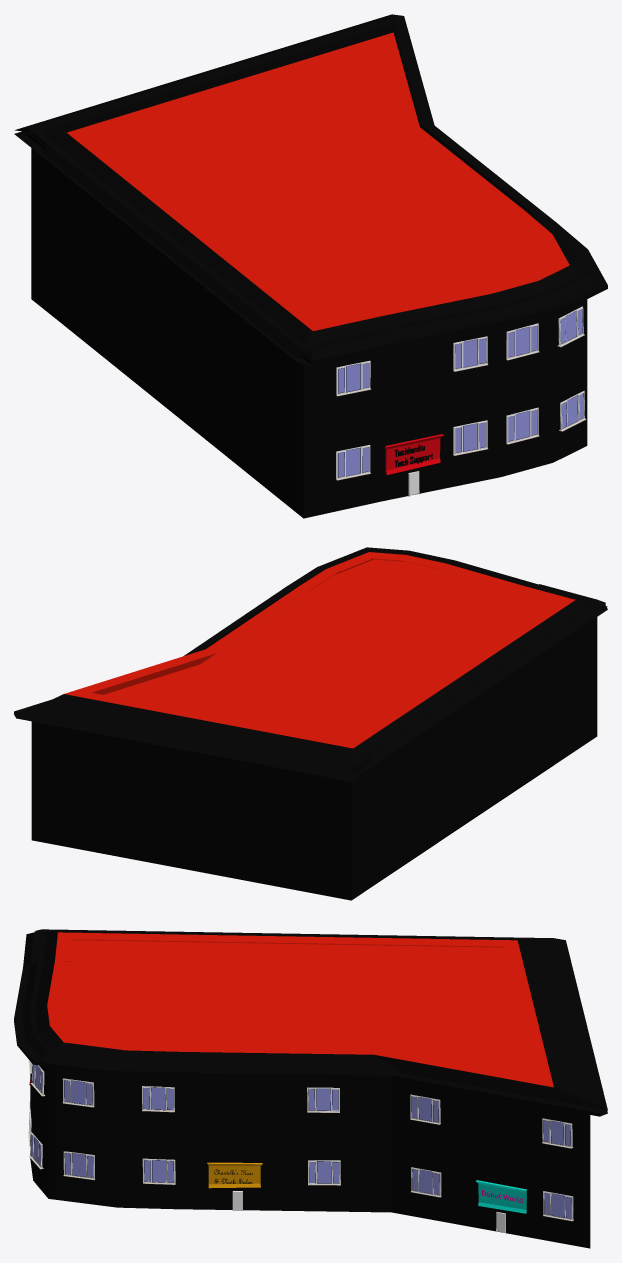
File: HarcourtRoadShops2.fbx
3 renders of one model, top to bottom at view 1: azimuth 30°, elevation 25°; view 2: azimuth 150°, elevation 25°; view 3: azimuth 270°, elevation 25°, orthographic. The views are drawn at different scales.
Visible parts, largest first — view 1: HarcourtRoadShops2, Window.004, Window.003, Window.002, Window.001, TechlandiaTechSupport; view 2: HarcourtRoadShops2; view 3: HarcourtRoadShops2, Window.005, Window.006, Window, Window.008, Window.007, Chantelle'sHair&NailsSalon, DonutWorld, Window.001.
Boxes of the visible parts, left/top/right/bottom form: HarcourtRoadShops2: left=14, top=14, right=607, bottom=518; Window.004: left=336, top=360, right=371, bottom=480; Window.003: left=453, top=336, right=488, bottom=455; Window.002: left=506, top=323, right=539, bottom=444; Window.001: left=558, top=306, right=586, bottom=431; TechlandiaTechSupport: left=385, top=434, right=443, bottom=474; HarcourtRoadShops2: left=14, top=547, right=607, bottom=900; HarcourtRoadShops2: left=14, top=929, right=607, bottom=1248; Window.005: left=142, top=1086, right=175, bottom=1184; Window.006: left=307, top=1087, right=340, bottom=1185; Window: left=62, top=1078, right=94, bottom=1180; Window.008: left=542, top=1118, right=573, bottom=1221; Window.007: left=410, top=1094, right=441, bottom=1197; Chantelle'sHair&NailsSalon: left=207, top=1162, right=262, bottom=1188; DonutWorld: left=476, top=1180, right=526, bottom=1213; Window.001: left=29, top=1063, right=45, bottom=1169.
Bounding box in the file's own units: 4320 × 1695 × 5944.
